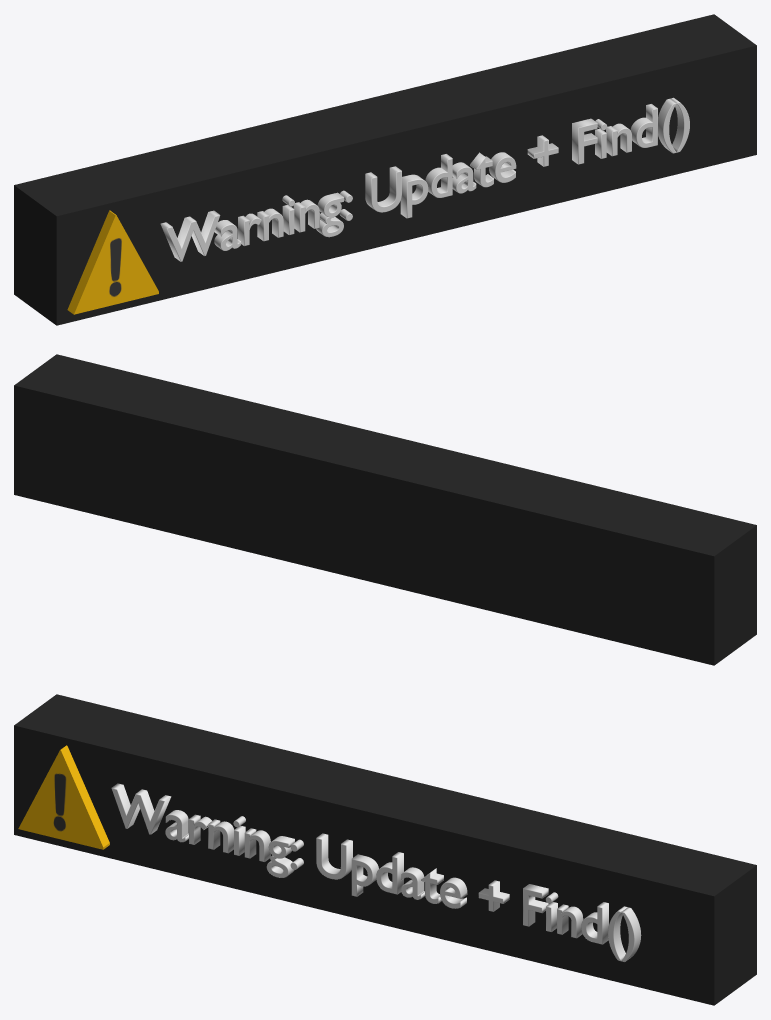
Rendered from Warning_ Update + Find().fbx.
3 renders of one model, top to bottom at view 1: azimuth 30°, elevation 25°; view 2: azimuth 150°, elevation 25°; view 3: azimuth 330°, elevation 25°, orthographic.
Visible parts, largest first — view 1: no1, Warning: Update + Find(); view 2: no1; view 3: no1, Warning: Update + Find().
Part boxes in pixels (bbox=[...]): no1: bbox=[14, 14, 756, 325]; Warning: Update + Find(): bbox=[160, 97, 689, 261]; no1: bbox=[14, 354, 756, 665]; no1: bbox=[14, 694, 756, 1005]; Warning: Update + Find(): bbox=[111, 783, 641, 961].
Bounding box in the file's own units: 2646 × 395 × 322.
